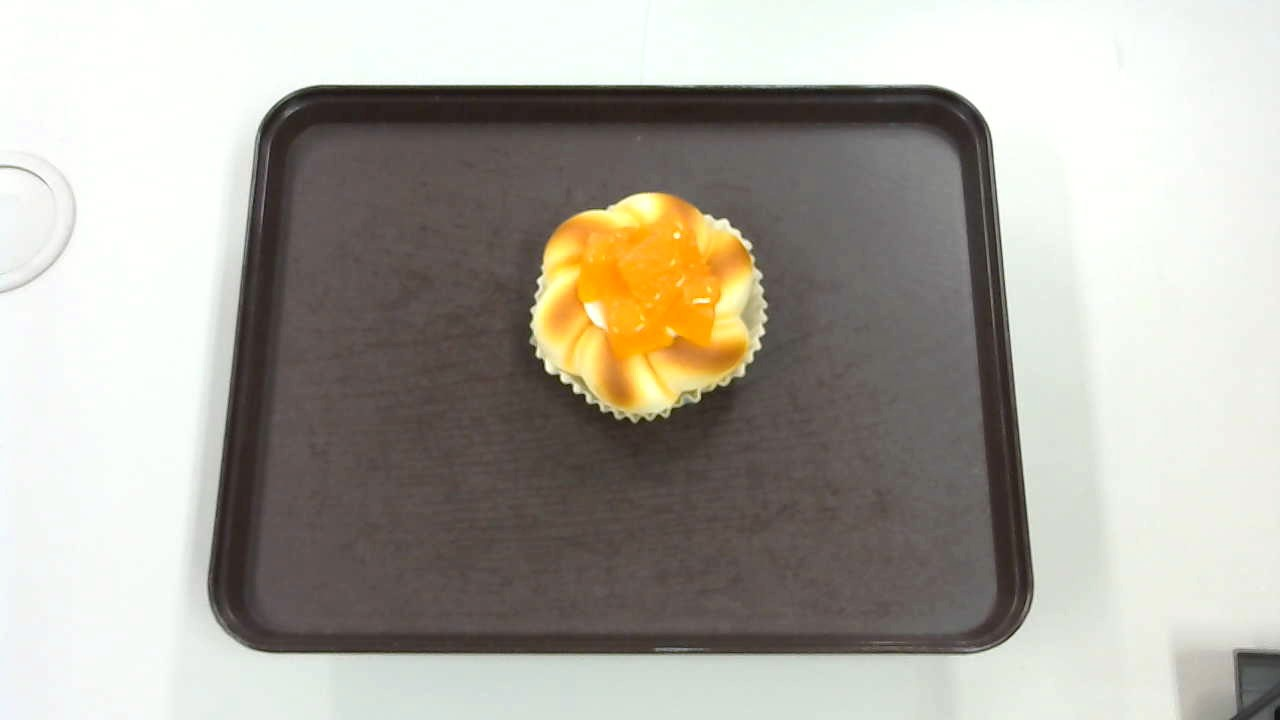mango tart: (529, 191, 767, 423)
